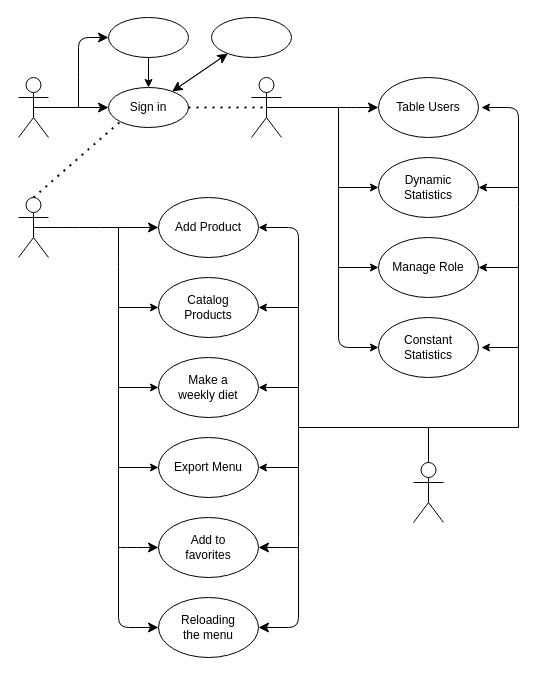
The diagram is 544 pixels wide and 675 high, and some of its shapes have lost their labels. The centre of each missing label's shape, as x and y in pixels:
Admin: (x=266, y=107)
Guest: (x=33, y=107)
Log out: (x=251, y=37)
Register: (x=148, y=37)
Server: (x=428, y=492)
User: (x=33, y=227)
